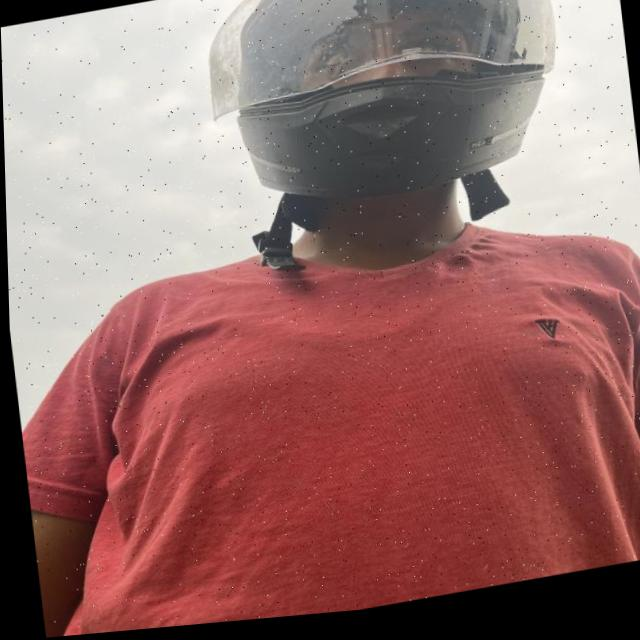helmet: (195, 0, 572, 289)
